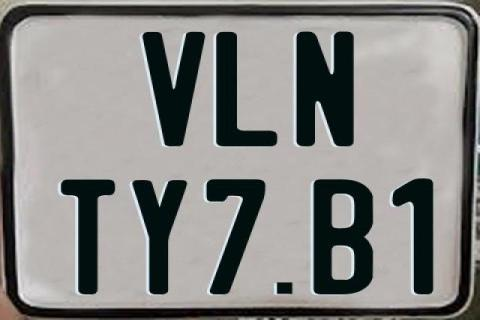0: (203, 177, 265, 292), (390, 177, 431, 297)
B: (312, 178, 374, 294)
L: (214, 30, 278, 148)
N: (296, 30, 358, 148)
T: (60, 178, 118, 294)
V: (141, 29, 204, 145)
Y: (130, 179, 185, 293)
